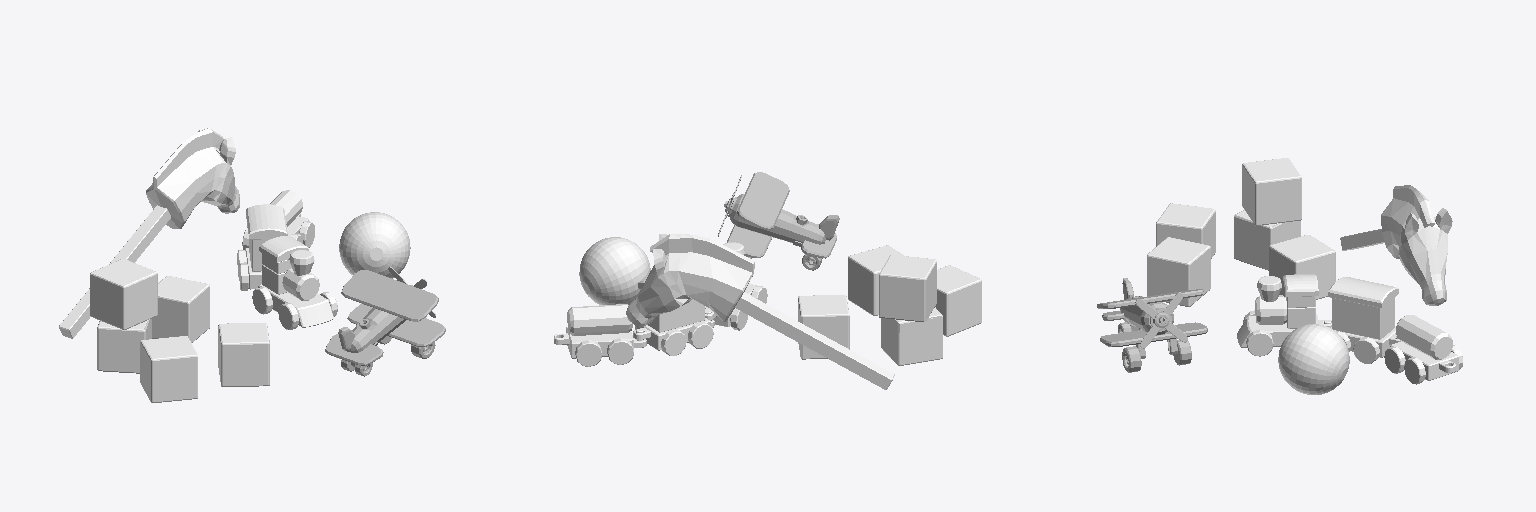
The picture shows the model from 3 angles: view 1: azimuth 30°, elevation 25°; view 2: azimuth 150°, elevation 25°; view 3: azimuth 270°, elevation 25°; orthographic projection.
Visible parts, largest first — view 1: 8-_horse_d, 1-_plande_d, 9-_train_d, 6-_cube_C_mesh_cubes_, 3-_ball_d, 7-_cube_D_mesh_cubes_, 2-_cubes_d, 4-_cube_B_mesh_cubes_, 10-_train_mesh2_train, 5-_cube_A_mesh_cubes_, 11-_train_mesh3_train; view 2: 8-_horse_d, 1-_plande_d, 11-_train_mesh3_train, 3-_ball_d, 6-_cube_C_mesh_cubes_, 10-_train_mesh2_train, 5-_cube_A_mesh_cubes_, 7-_cube_D_mesh_cubes_, 4-_cube_B_mesh_cubes_, 2-_cubes_d, 9-_train_d; view 3: 8-_horse_d, 1-_plande_d, 10-_train_mesh2_train, 9-_train_d, 3-_ball_d, 11-_train_mesh3_train, 6-_cube_C_mesh_cubes_, 2-_cubes_d, 4-_cube_B_mesh_cubes_, 5-_cube_A_mesh_cubes_, 7-_cube_D_mesh_cubes_.
Part boxes in pixels (x1,y1,x2,y2): 8-_horse_d: (59,127,239,338); 1-_plande_d: (325,267,445,376); 9-_train_d: (252,236,337,329); 6-_cube_C_mesh_cubes_: (90,259,157,329); 3-_ball_d: (339,212,410,278); 7-_cube_D_mesh_cubes_: (140,336,197,402); 2-_cubes_d: (218,323,269,386); 4-_cube_B_mesh_cubes_: (152,276,209,342); 10-_train_mesh2_train: (237,204,287,290); 5-_cube_A_mesh_cubes_: (97,319,151,373); 11-_train_mesh3_train: (242,190,314,249); 8-_horse_d: (626,234,894,389); 1-_plande_d: (718,172,839,270); 11-_train_mesh3_train: (554,304,646,366); 3-_ball_d: (579,237,650,304); 6-_cube_C_mesh_cubes_: (879,255,936,321); 10-_train_mesh2_train: (633,280,714,355); 5-_cube_A_mesh_cubes_: (881,307,942,365); 7-_cube_D_mesh_cubes_: (935,265,981,336); 4-_cube_B_mesh_cubes_: (798,295,849,359); 2-_cubes_d: (848,245,903,315); 9-_train_d: (705,242,767,330); 8-_horse_d: (1340,185,1452,305); 1-_plande_d: (1097,278,1207,372); 10-_train_mesh2_train: (1324,277,1400,363); 9-_train_d: (1237,274,1331,356); 3-_ball_d: (1278,324,1349,394); 11-_train_mesh3_train: (1384,315,1462,384); 6-_cube_C_mesh_cubes_: (1242,158,1301,225); 2-_cubes_d: (1147,237,1210,306); 4-_cube_B_mesh_cubes_: (1269,235,1335,299); 5-_cube_A_mesh_cubes_: (1234,210,1300,270); 7-_cube_D_mesh_cubes_: (1156,203,1215,258).
Bounding box in the file's own units: 157 × 62.87 × 150.